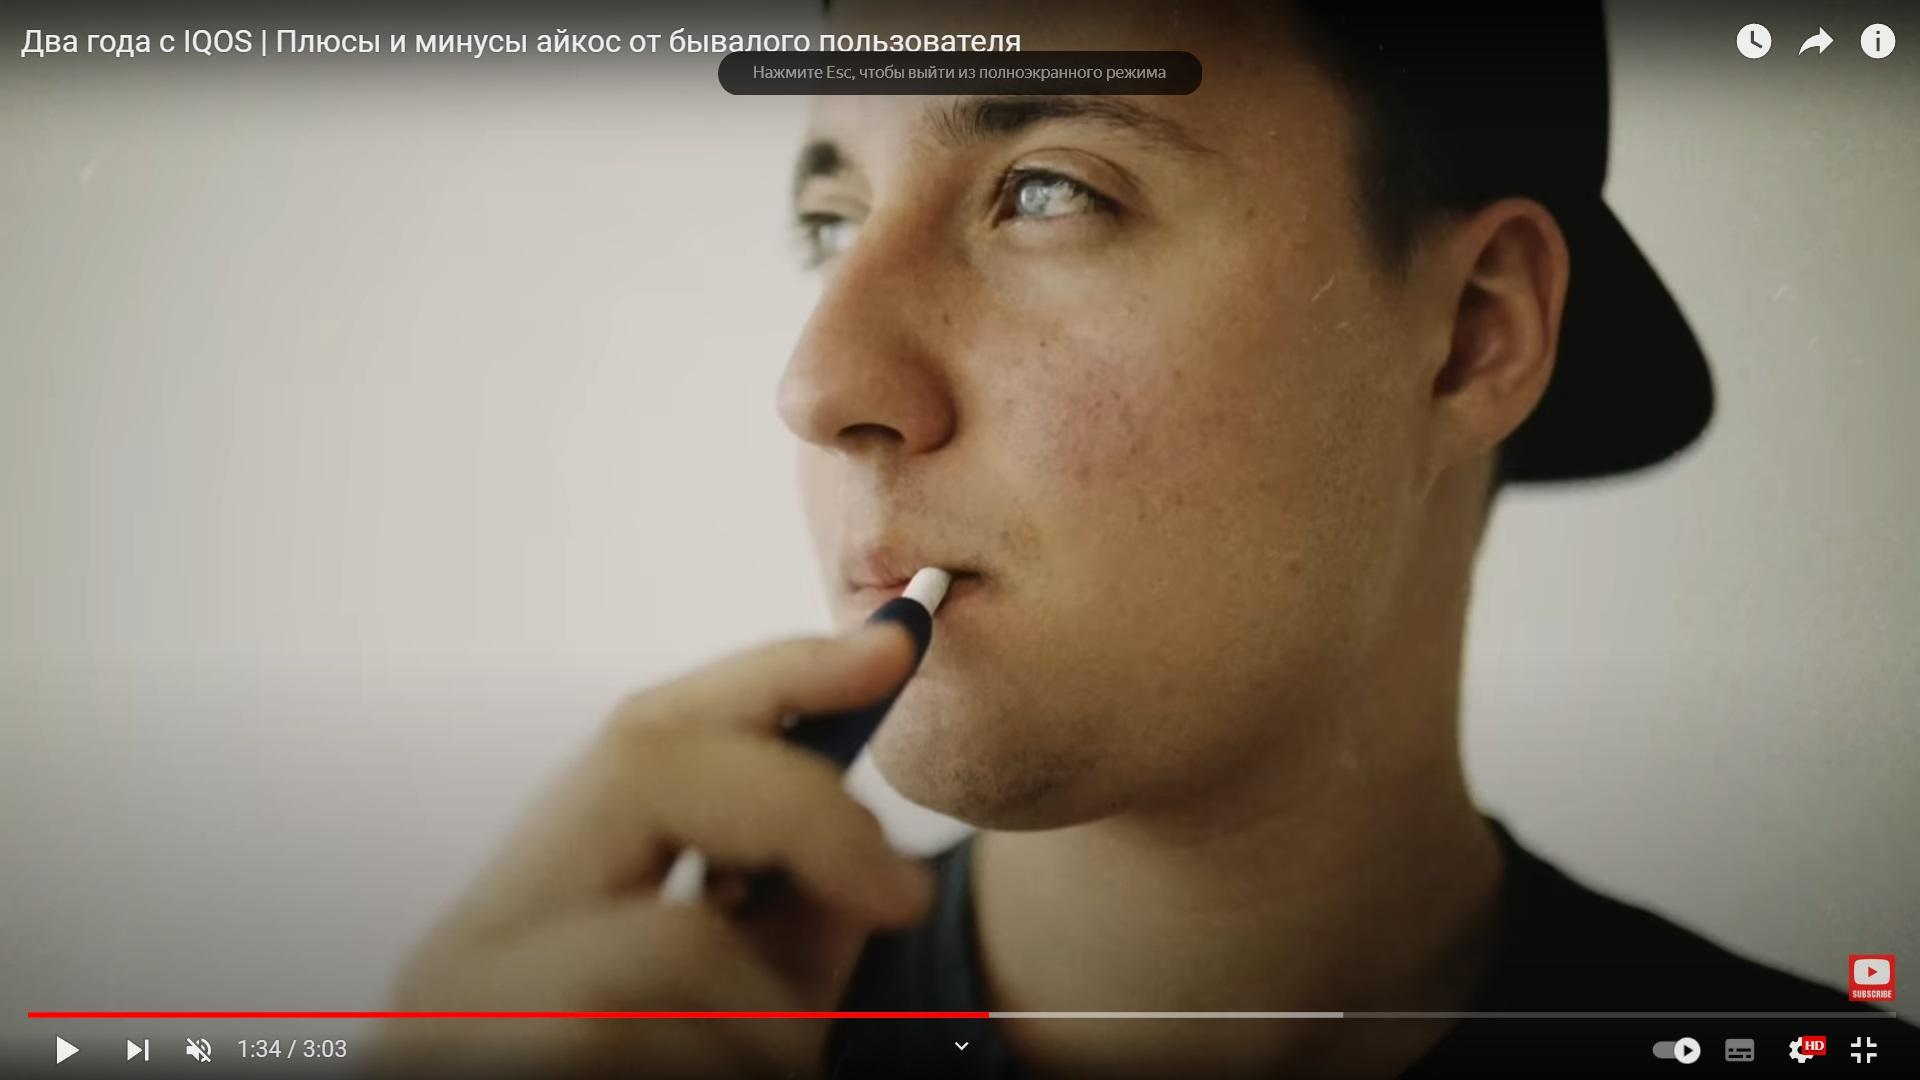iqos: (785, 566, 953, 773)
